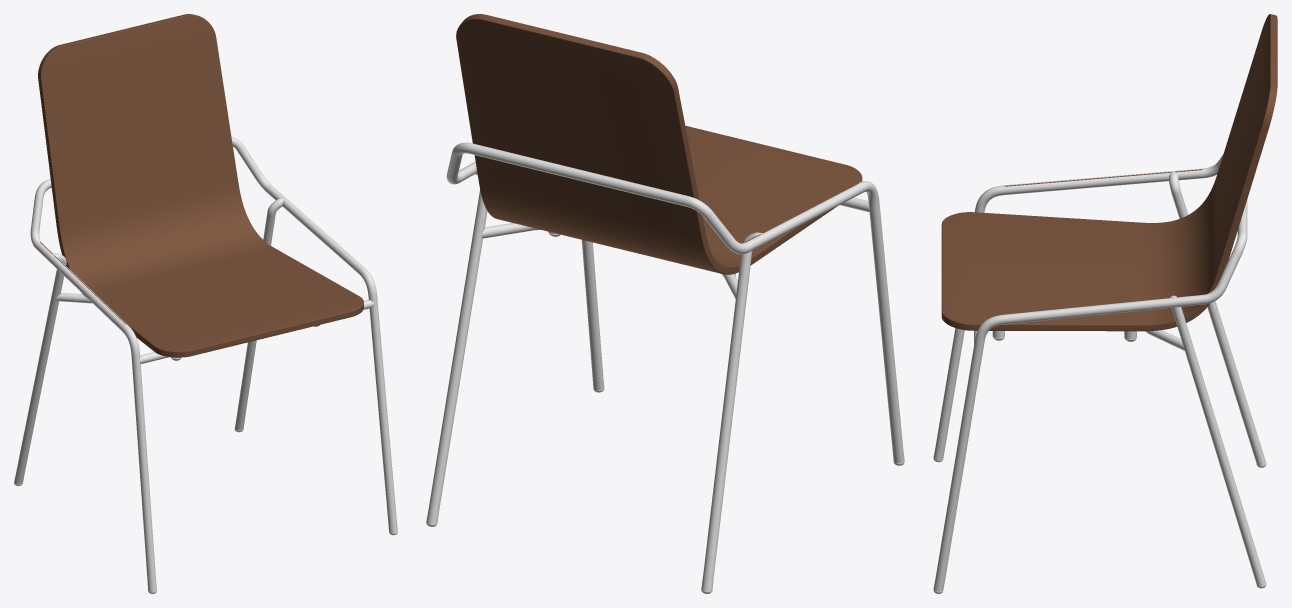
The model's file is desk_chair_2.glb.
The picture shows the model from 3 angles, left to right: view 1: azimuth 30°, elevation 25°; view 2: azimuth 150°, elevation 25°; view 3: azimuth 270°, elevation 25°; orthographic projection. The views are drawn at different scales.
Visible parts, largest first — view 1: Chair; view 2: Chair; view 3: Chair.
Part boxes in pixels (left/top/right/bottom): Chair: left=14, top=14, right=397, bottom=593; Chair: left=426, top=14, right=904, bottom=593; Chair: left=933, top=14, right=1277, bottom=593.
Size of the model in its own units: 0.5129 by 0.8371 by 0.5481.
